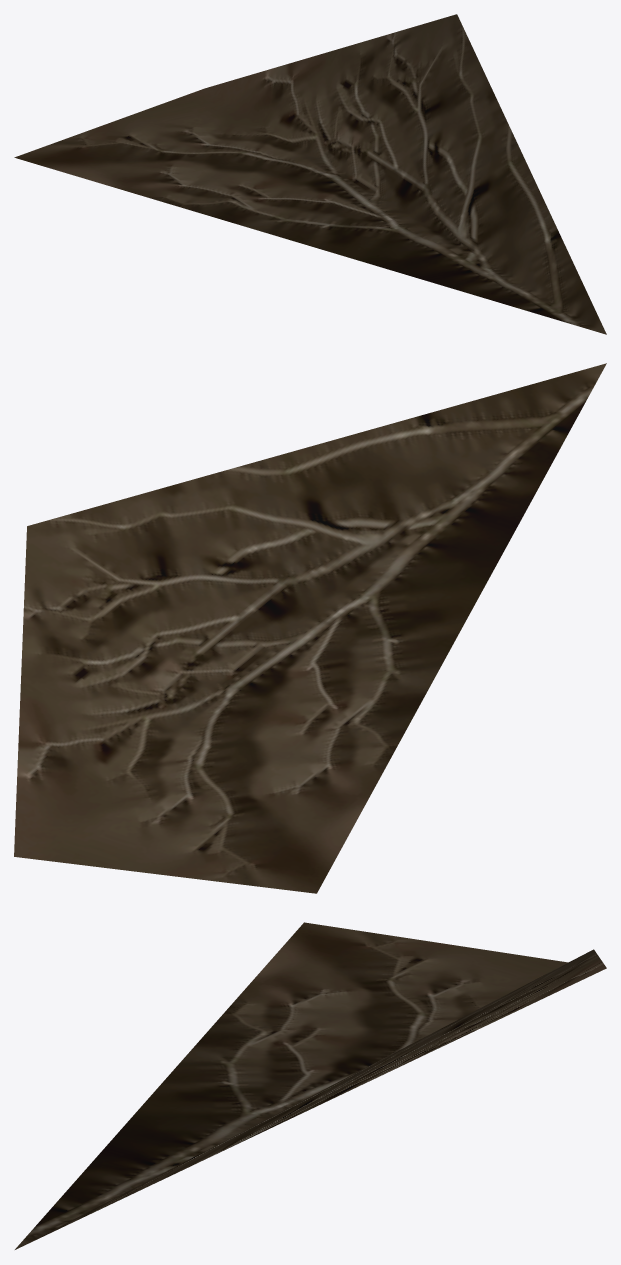
The model's file is MEP_DTree_P_02.fbx.
3 views of the same model, one above another, from view 1: azimuth 30°, elevation 25°; view 2: azimuth 150°, elevation 25°; view 3: azimuth 330°, elevation 25° (orthographic). The views are drawn at different scales.
Visible parts, largest first — view 1: MEP_DTree_P_02; view 2: MEP_DTree_P_02; view 3: MEP_DTree_P_02.
Part boxes in pixels (box(x1,y1,x2,y2)): MEP_DTree_P_02: box(14, 14, 606, 334); MEP_DTree_P_02: box(14, 363, 606, 893); MEP_DTree_P_02: box(15, 922, 606, 1249).
Bounding box in the file's own units: 1.23 × 0.4882 × 2.76.
